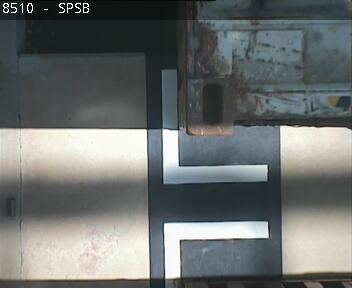groundmarker_1: (158, 70, 270, 285)
